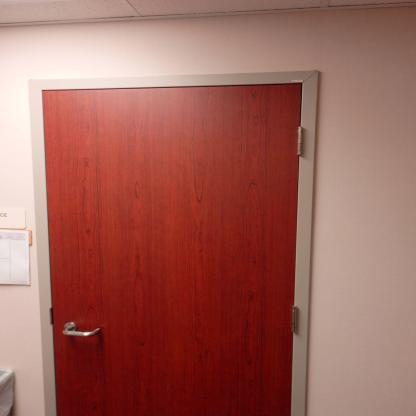door: (48, 85, 307, 415)
hinged: (296, 124, 305, 157), (290, 305, 299, 334)
lever: (61, 324, 105, 342)
